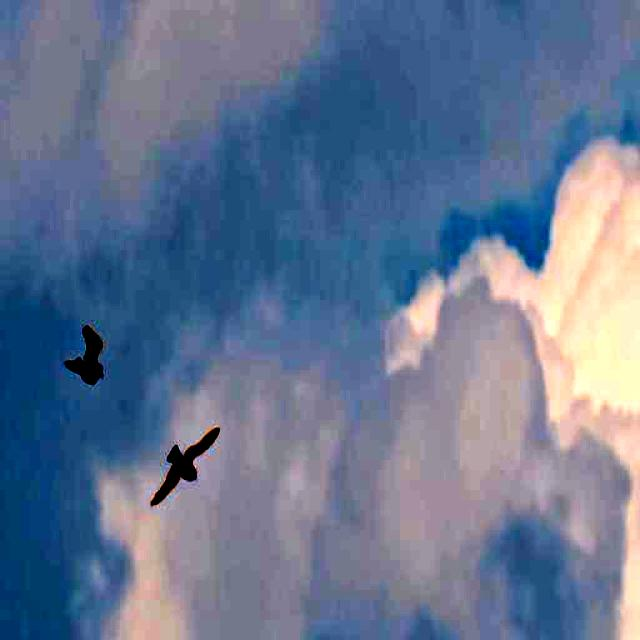airplane: (145, 419, 225, 516), (59, 286, 109, 408)
